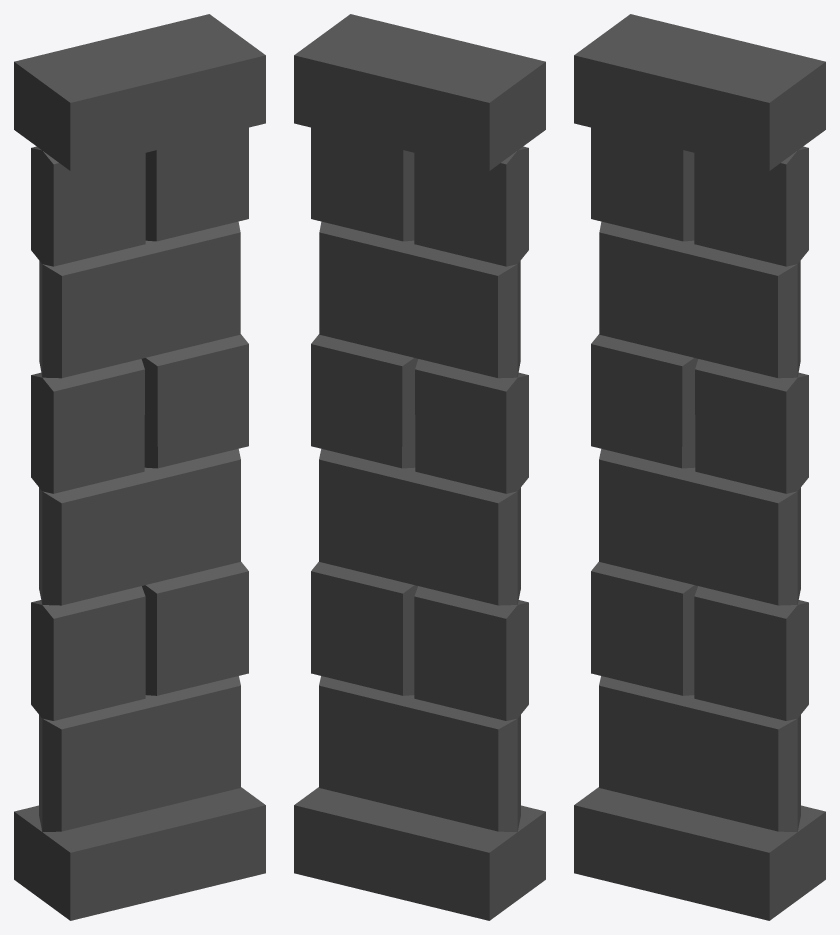
File: Wall_1x4.fbx
3 views of the same model, side by side, from view 1: azimuth 30°, elevation 25°; view 2: azimuth 150°, elevation 25°; view 3: azimuth 330°, elevation 25° (orthographic).
Parts seen in each view (by area): view 1: Wall 1x4; view 2: Wall 1x4; view 3: Wall 1x4.
Part boxes in pixels (x1,y1,x2,y2): Wall 1x4: (14,14,265,920); Wall 1x4: (294,14,545,920); Wall 1x4: (574,14,825,920).
Bounding box in the file's own units: 100 × 400 × 50.
